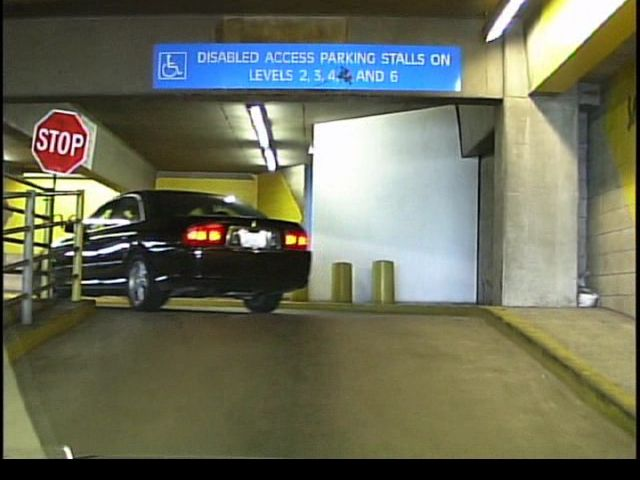car: (82, 186, 330, 312)
stop: (28, 100, 91, 182)
